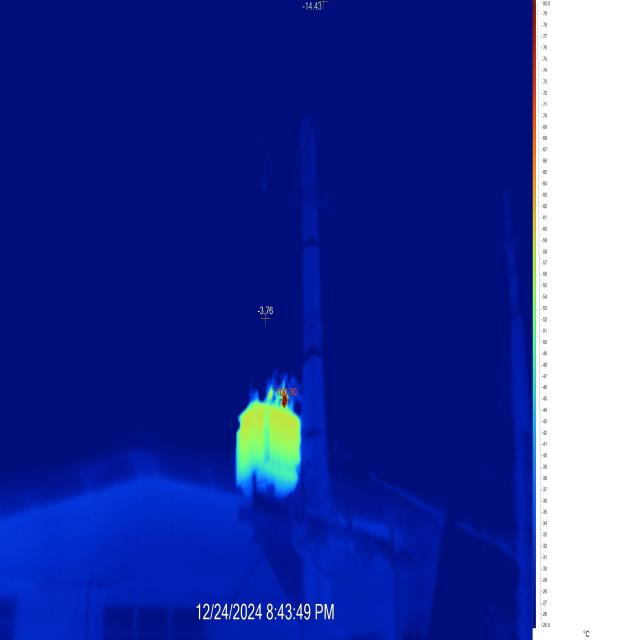Transformer: (214, 18, 393, 628)
